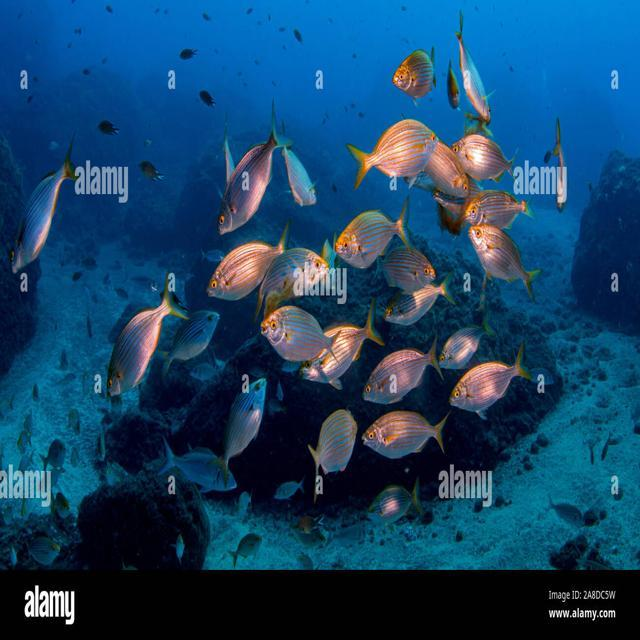fish: (214, 98, 295, 235), (9, 131, 84, 277), (99, 276, 189, 397), (298, 299, 387, 389), (203, 219, 292, 302), (351, 115, 443, 191), (333, 194, 425, 270), (449, 339, 530, 421), (214, 376, 269, 486), (361, 335, 442, 405), (471, 224, 542, 301), (308, 405, 358, 502), (381, 264, 458, 325), (156, 306, 222, 377), (258, 305, 341, 361), (162, 432, 237, 493), (458, 8, 497, 124), (361, 409, 448, 459), (447, 133, 522, 183), (436, 308, 495, 371), (281, 117, 319, 206), (465, 189, 539, 232), (368, 474, 426, 526), (419, 143, 472, 197), (372, 249, 437, 293), (394, 46, 439, 100), (225, 526, 263, 571), (551, 115, 568, 212), (545, 492, 584, 531), (25, 538, 63, 566), (274, 475, 309, 501), (38, 442, 69, 470), (289, 513, 327, 533), (447, 60, 459, 112), (140, 157, 164, 181), (96, 116, 122, 138), (65, 406, 82, 437), (599, 430, 614, 462), (49, 492, 70, 513), (17, 430, 33, 455), (53, 371, 77, 387), (179, 47, 199, 61), (9, 543, 18, 569), (293, 27, 305, 44), (32, 381, 40, 400), (201, 90, 211, 105), (202, 11, 213, 23), (104, 4, 115, 14), (246, 7, 253, 16), (84, 68, 90, 77)
